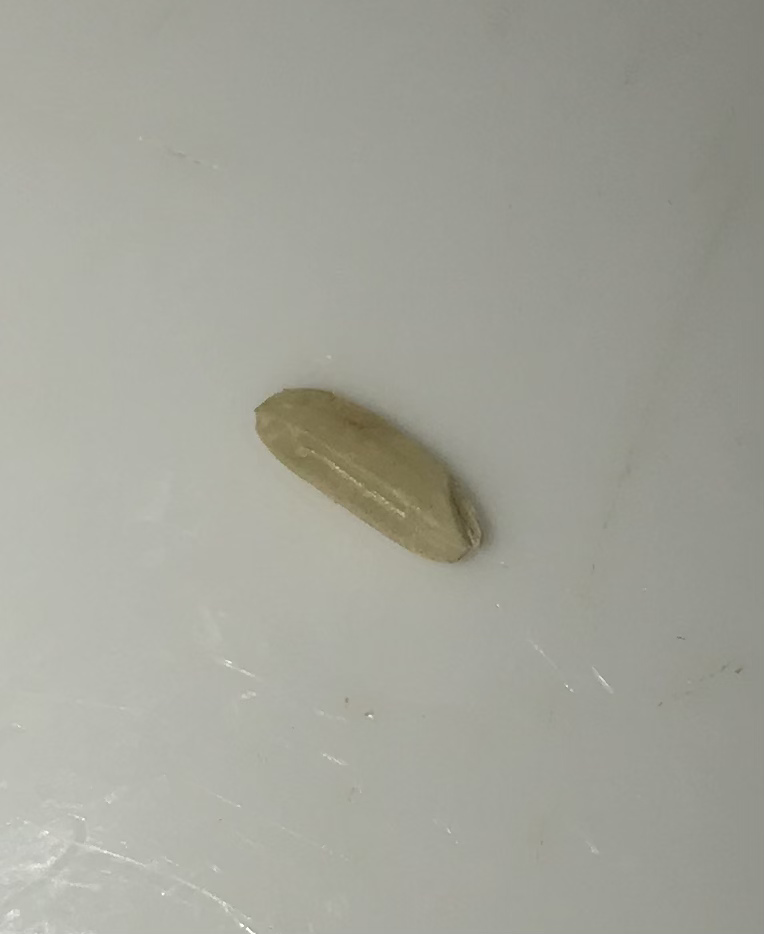Gao Lut Trang: (252, 371, 496, 571)
